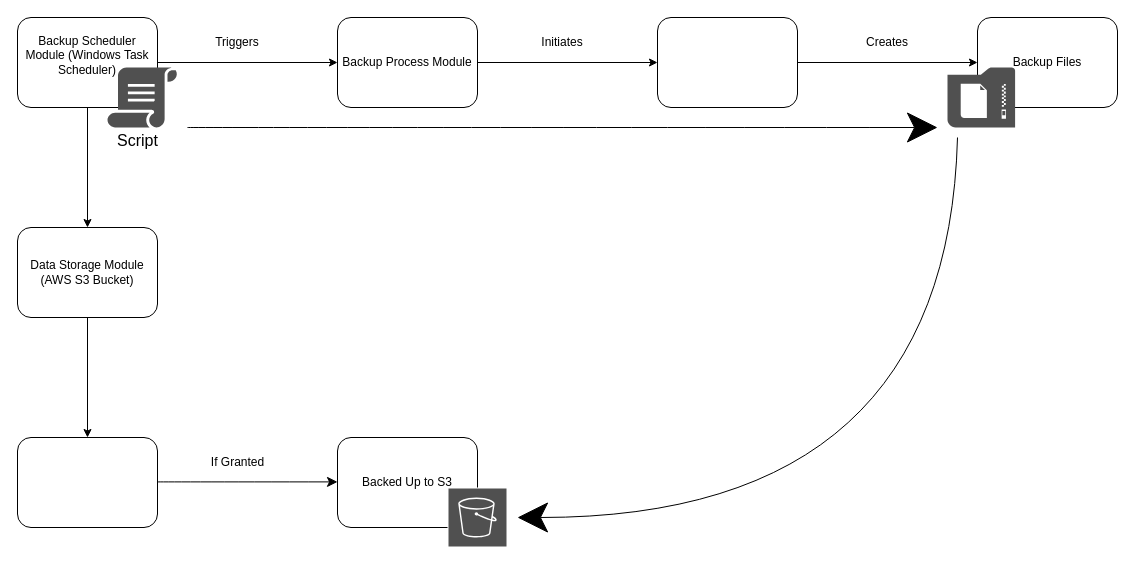
The diagram is 1135 pixels wide and 565 high, and some of its shapes have lost their labels. Here are the shapes that lost their labels. From the top down, the centre of each, then its label:
At point (727, 62): "MongoDB Backup Commands".
At point (87, 482): "Access Control Module (AWS IAM)".
